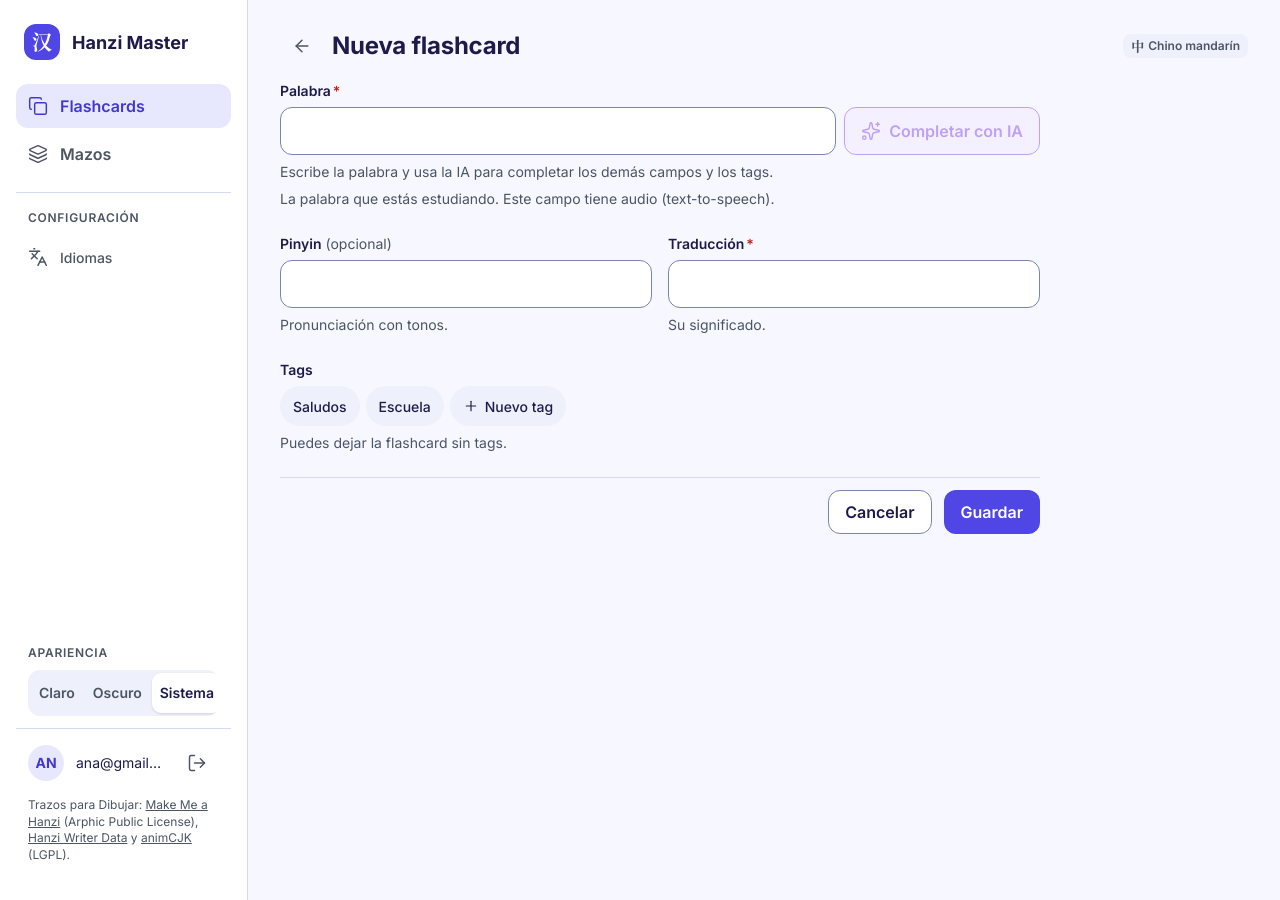
F03 · Completar con IA › completar de nuevo reemplaza lo que puso la IA pero respeta lo que editó el usuario
Type "朋友" into the field labelled "Palabra*" at coordinates (558, 131), box [280,107,836,155]
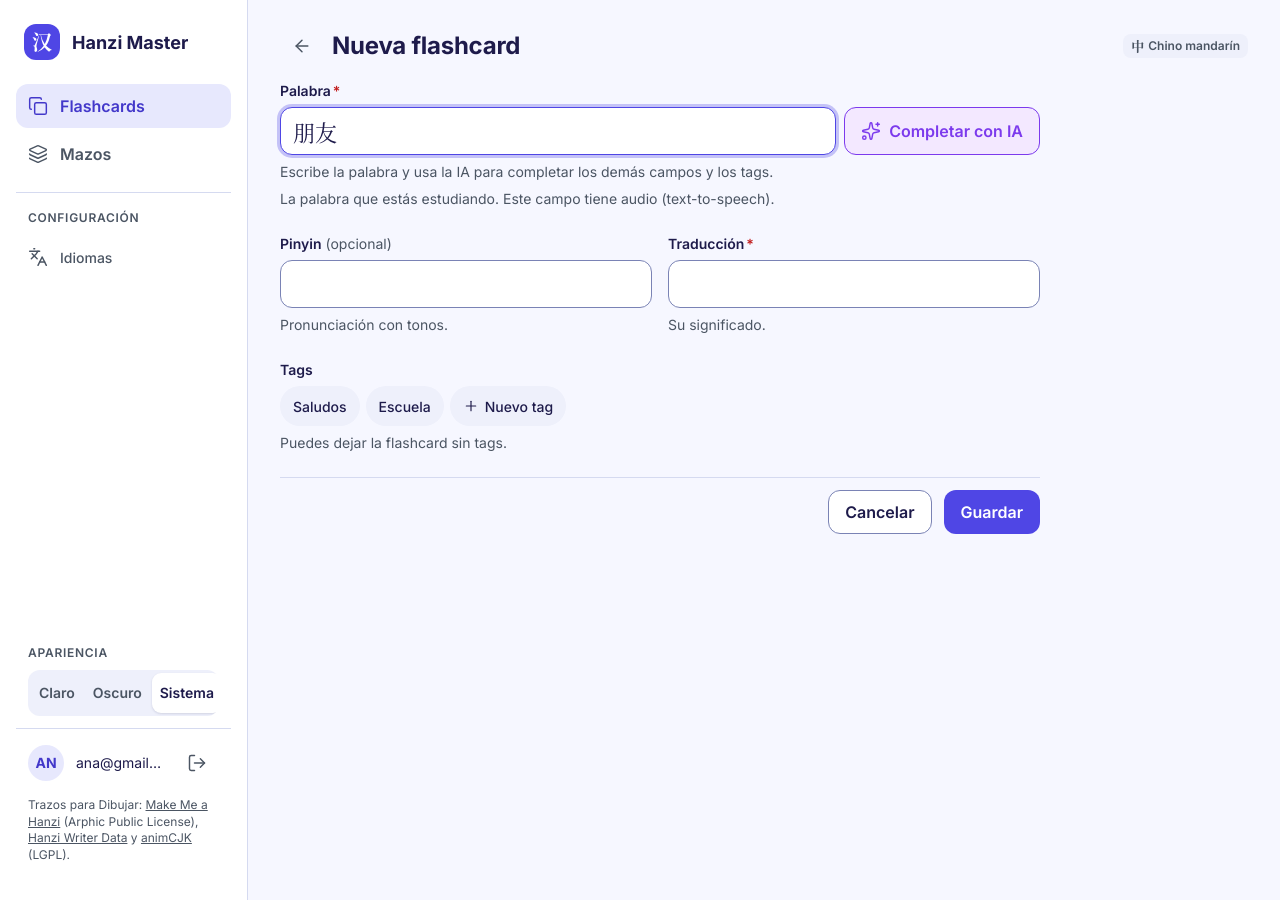
Click the button "Completar con IA" at coordinates (942, 131), box [844,107,1040,155]
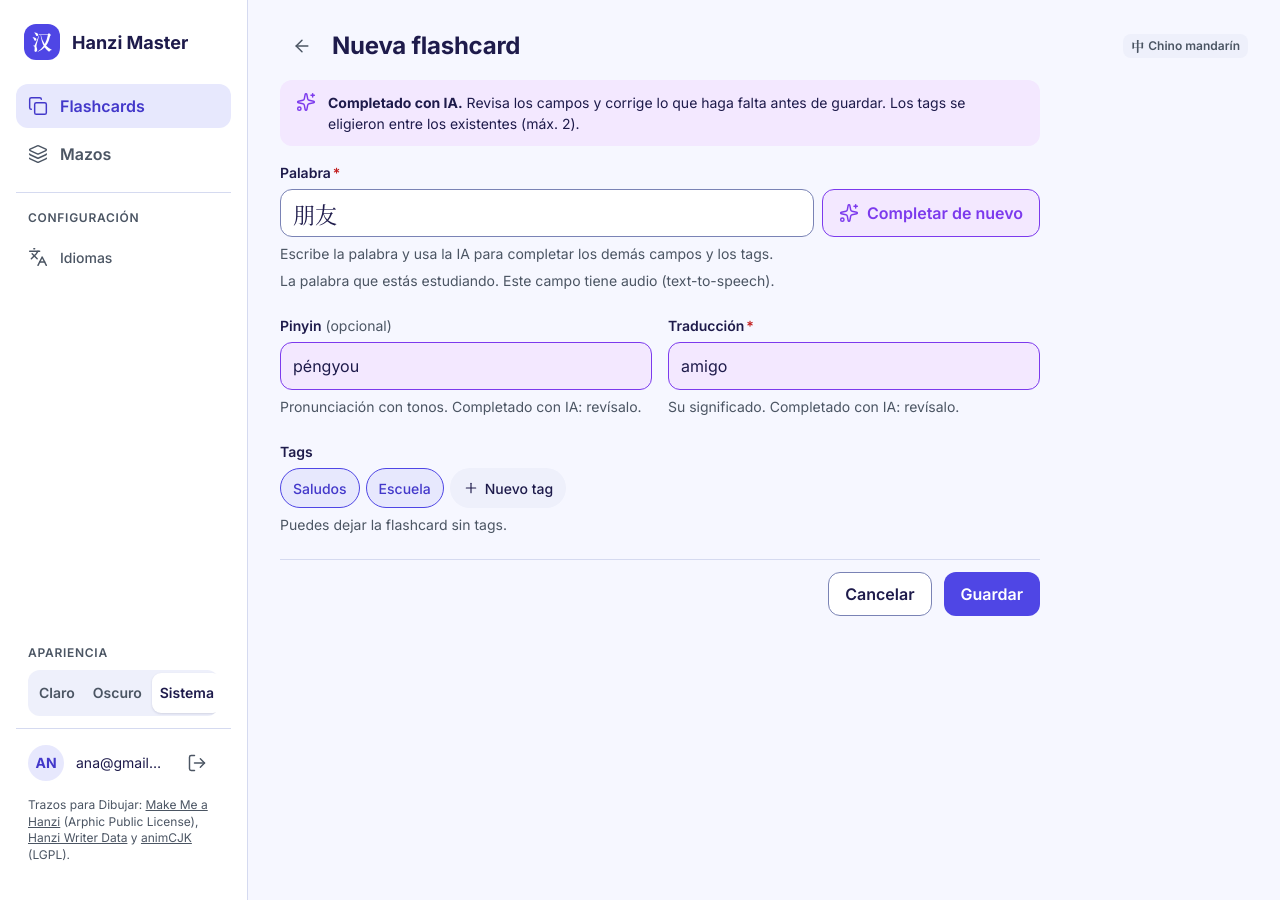
Expected: the field labelled "Pinyin(opcional)" holds "péngyou", [280,342,652,390]
Replace the text in the field labelled "Traducción*" with "colega" at coordinates (854, 366), box [668,342,1040,390]
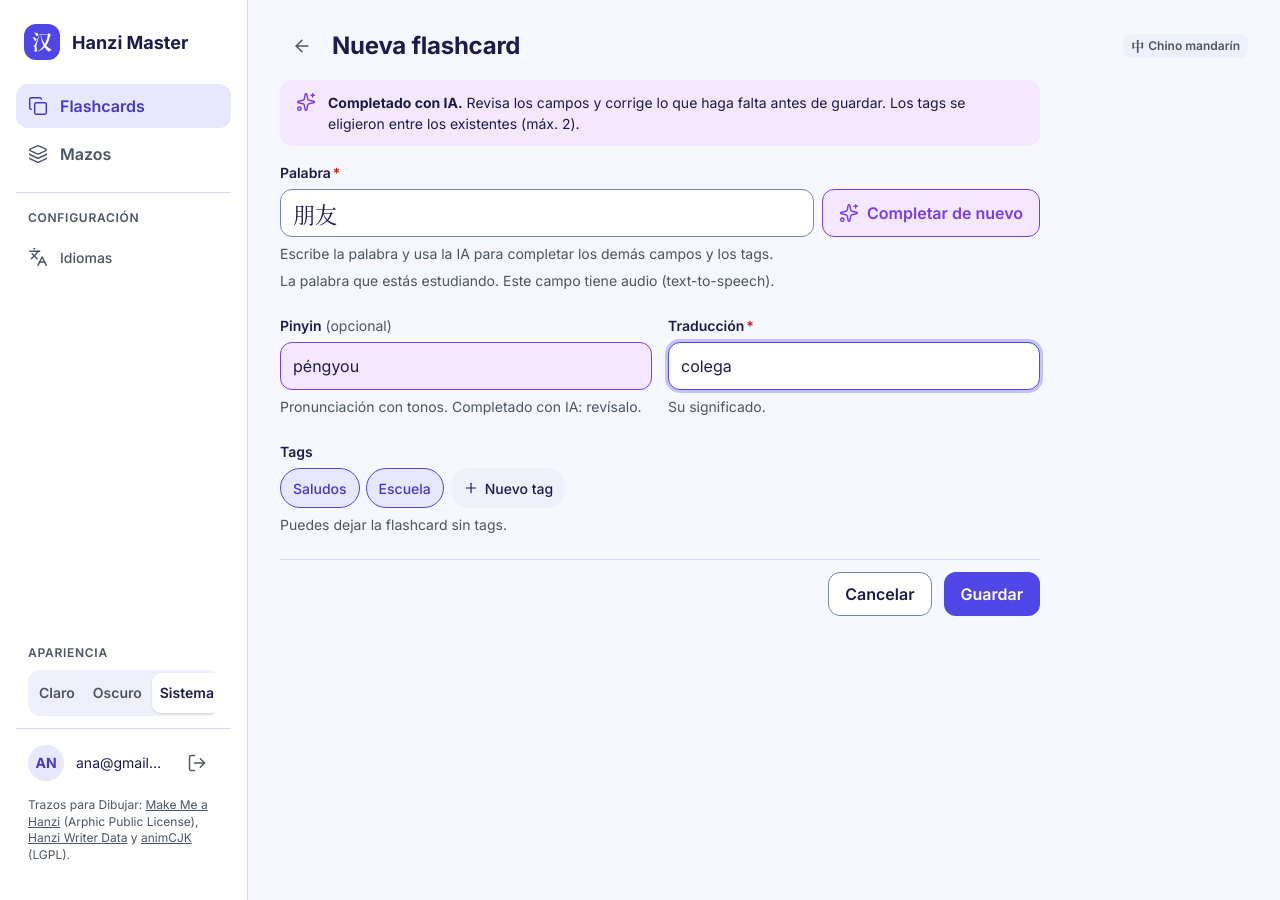
Click the button "Completar de nuevo" at coordinates (931, 213), box [822,189,1040,237]
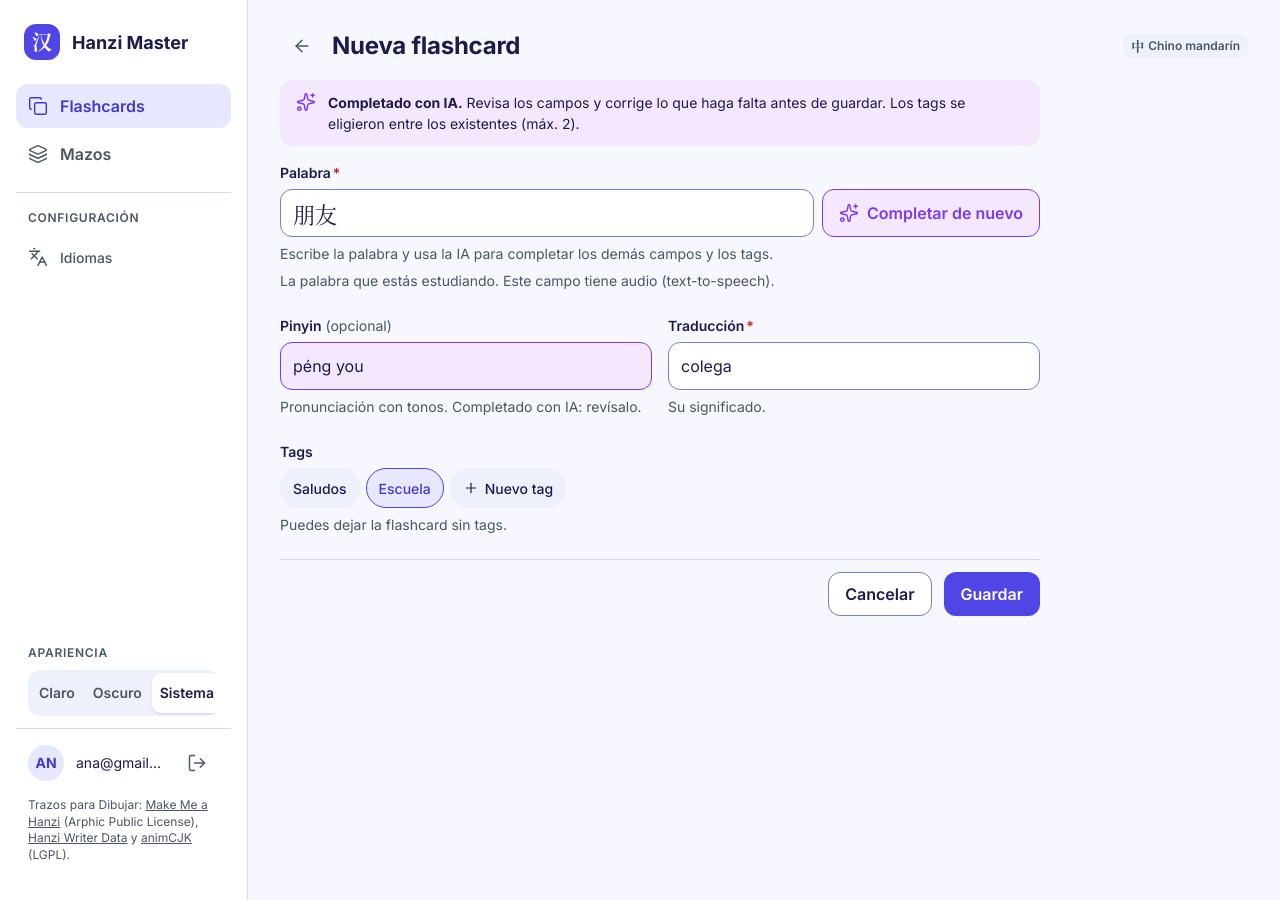
Expected: the field labelled "Pinyin(opcional)" holds "péng you", [280,342,652,390]
